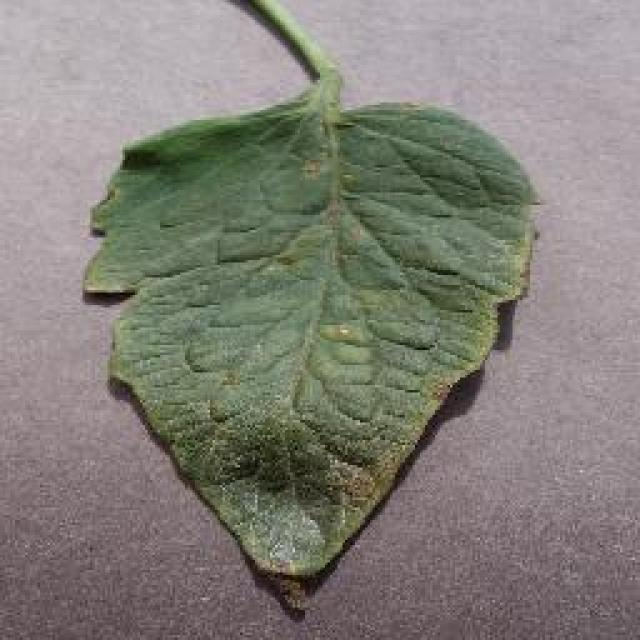Tomato___Target_Spot: (82, 0, 532, 620)
